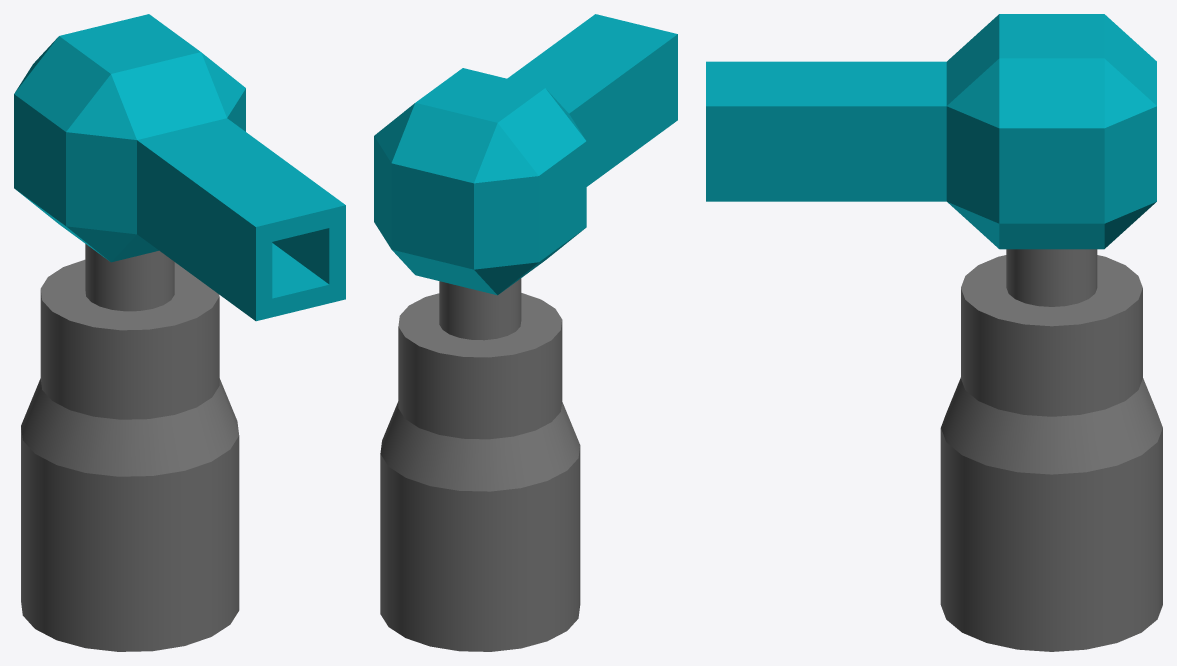
The model's file is Turret1.fbx.
3 views of the same model, side by side, from view 1: azimuth 30°, elevation 25°; view 2: azimuth 150°, elevation 25°; view 3: azimuth 270°, elevation 25° (orthographic). The views are drawn at different scales.
Visible parts, largest first — view 1: pCube2; view 2: pCube2; view 3: pCube2.
Boxes of the visible parts, bbox=[...] form: pCube2: bbox=[14, 14, 345, 651]; pCube2: bbox=[374, 14, 677, 651]; pCube2: bbox=[706, 14, 1162, 651].
Bounding box in the file's own units: 1.46 × 4.12 × 3.
